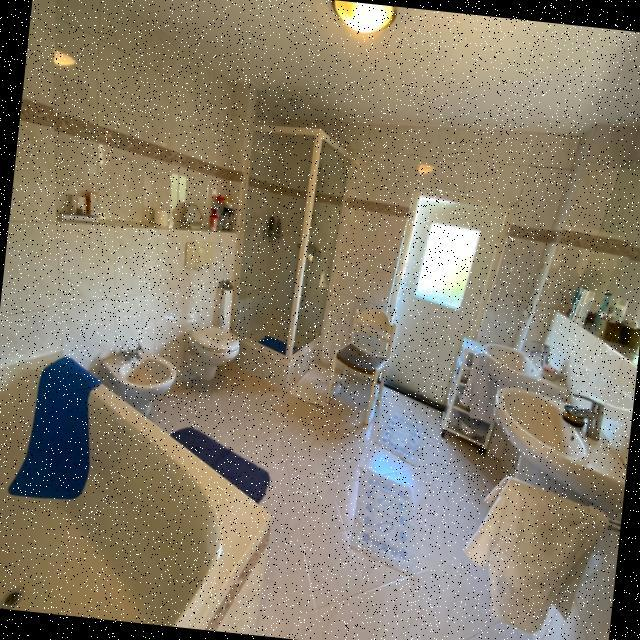bath: (0, 342, 286, 635)
douche: (222, 119, 358, 394)
toilet: (172, 238, 250, 384), (95, 336, 179, 418)
wastafel: (464, 330, 638, 516)
